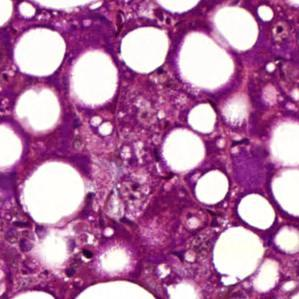steatosis: (23, 162, 88, 224), (12, 28, 67, 78), (118, 27, 174, 72), (161, 130, 205, 174), (236, 195, 280, 230), (195, 173, 230, 204)
